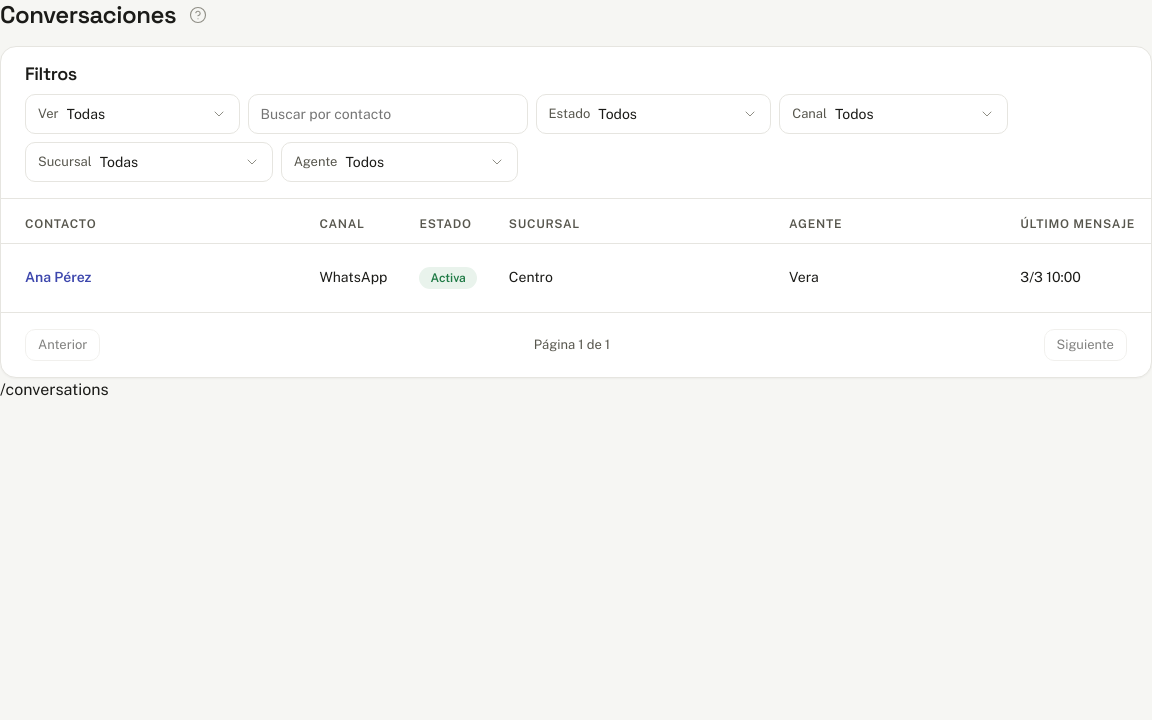
Scenario: ConversationListPage › cerrar el pop up vuelve al listado, sin navegar tampoco al cerrar
This screenshot has width=1152, height=720.
Step 1. Click the button "Ana Pérez" → (58, 278), box [25,258,92,298]
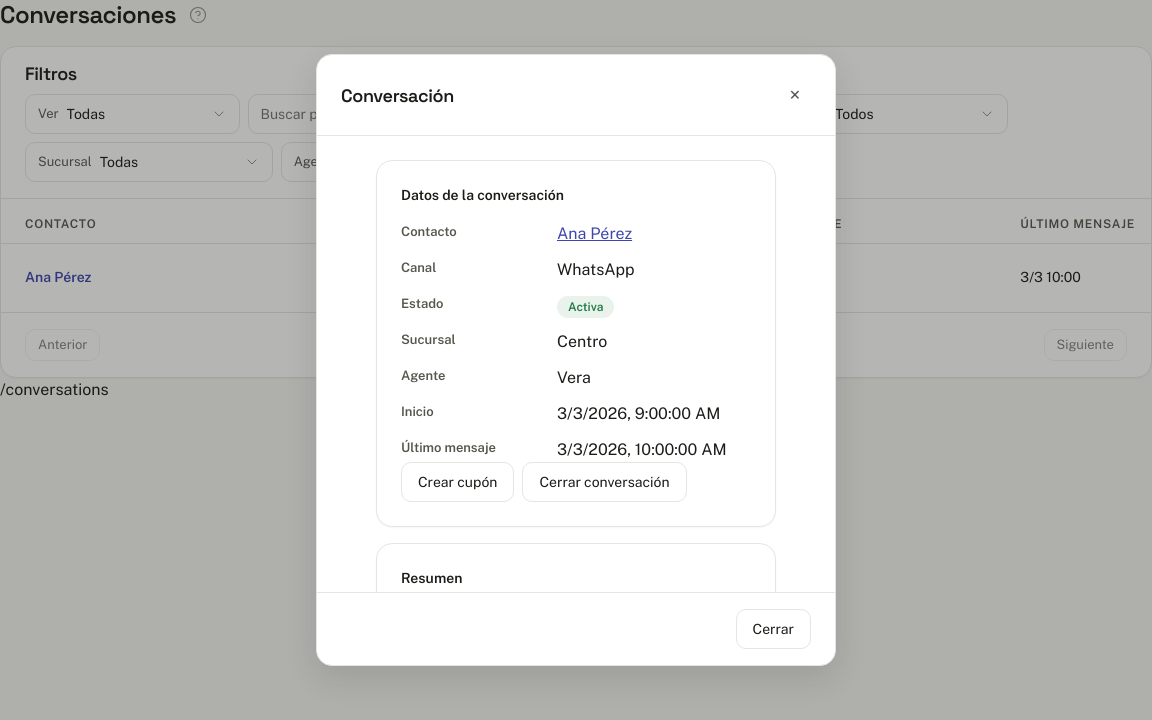
Expected: the dialog is shown
Step 2. Click the button "Cerrar" → (773, 629), box [736,609,811,649]
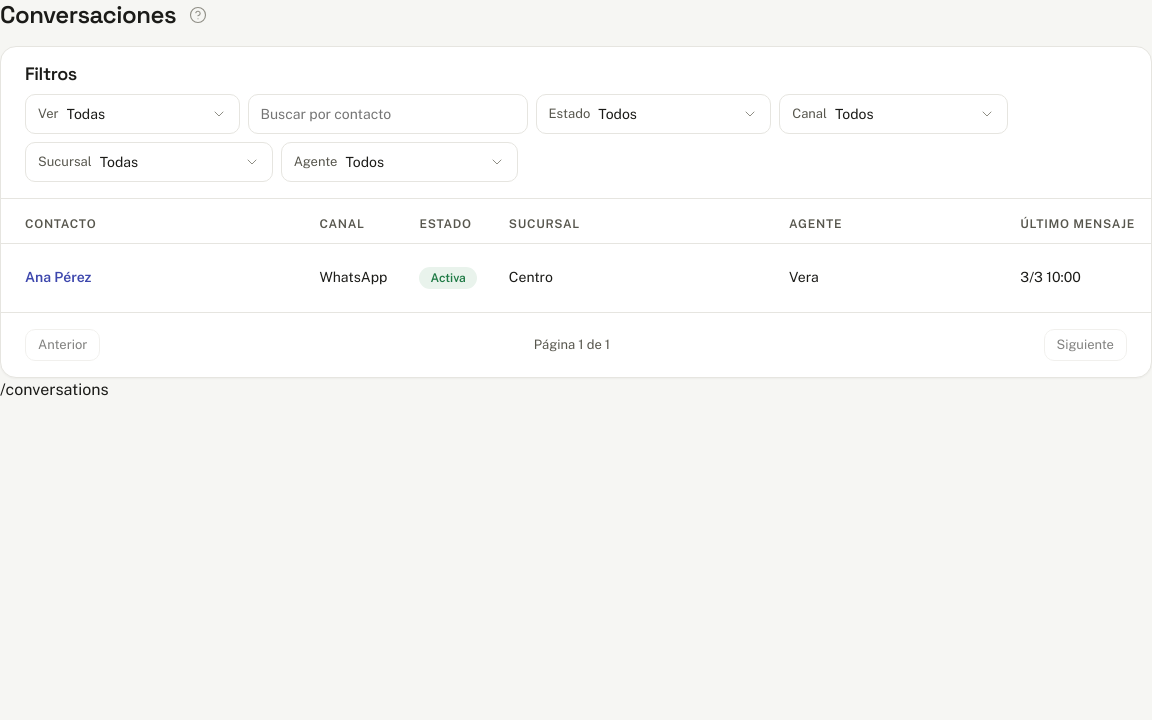
Expected: the text with test id "ubicacion" reads "/conversations", [0,380,108,398]
Expected: the dialog is gone
